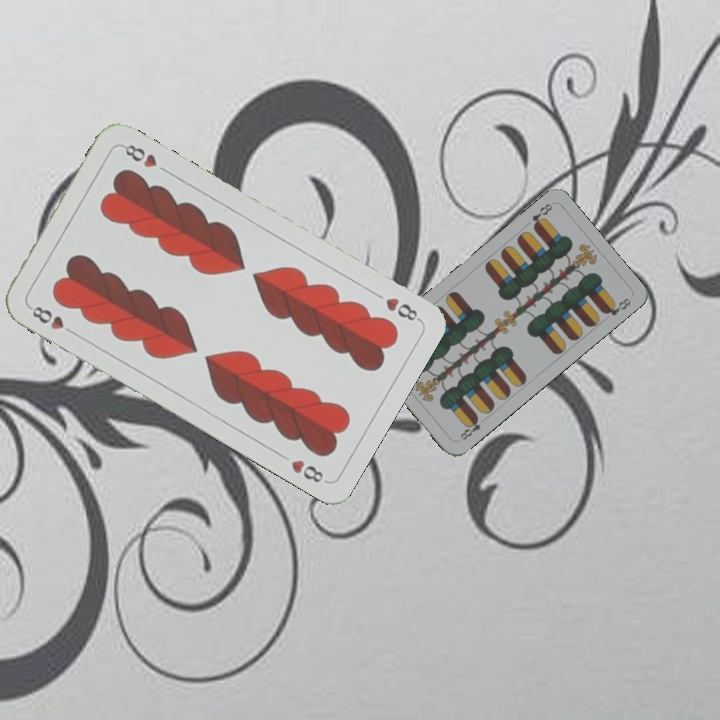E8: (456, 412, 489, 443), (528, 199, 555, 232)
H8: (25, 301, 79, 338), (381, 293, 423, 324)
